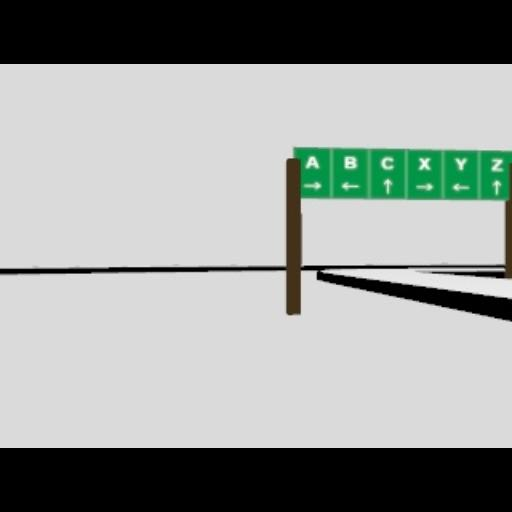A: (305, 155, 319, 169)
B: (343, 156, 357, 170)
C: (381, 156, 395, 170)
Left: (340, 181, 360, 191), (452, 183, 470, 191)
Right: (414, 182, 434, 190), (302, 181, 322, 189)
Straight: (382, 178, 392, 194), (491, 179, 501, 195)
X: (418, 158, 430, 170)
Y: (454, 158, 468, 170)
Z: (490, 158, 502, 172)
